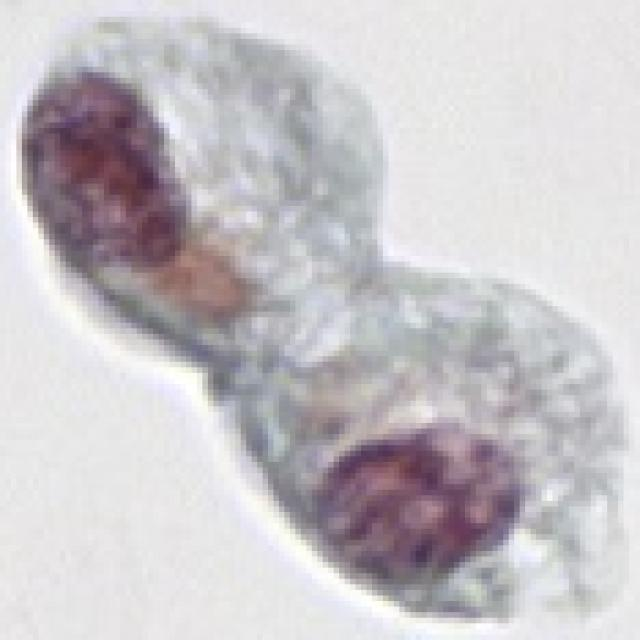cytoplasm: (235, 264, 633, 622)
nucleus: (0, 52, 214, 304), (303, 408, 542, 606)
